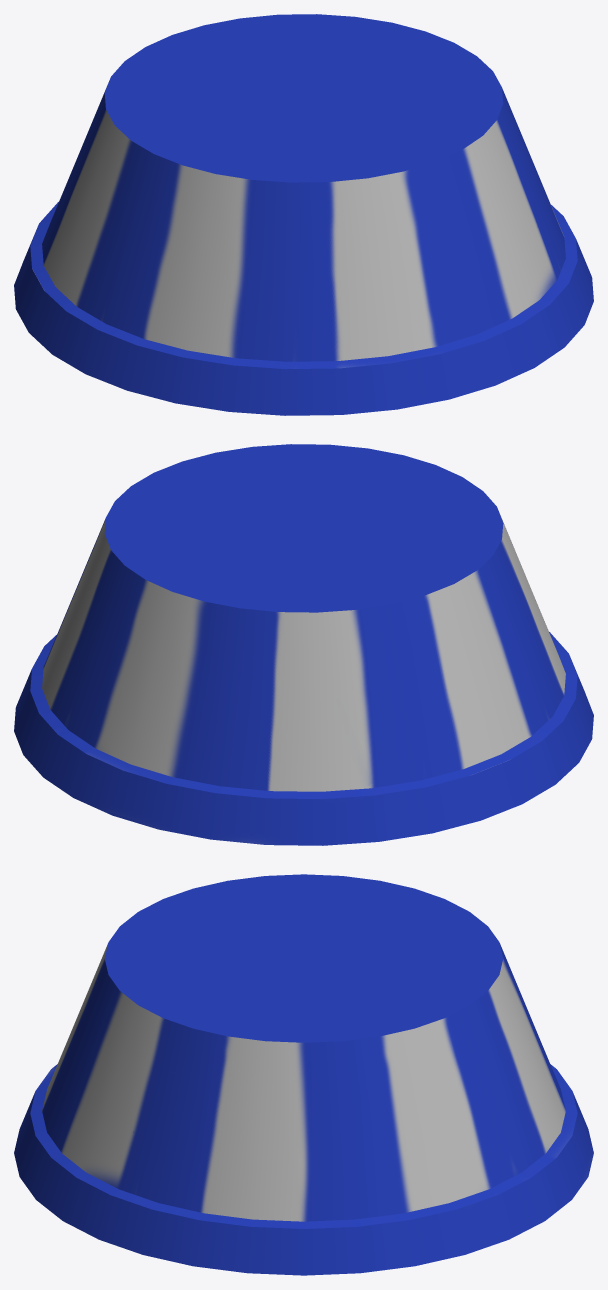
Rendered from plinth_01 1.fbx.
3 views of the same model, one above another, from view 1: azimuth 30°, elevation 25°; view 2: azimuth 150°, elevation 25°; view 3: azimuth 270°, elevation 25° (orthographic).
Parts seen in each view (by area): view 1: taso 1; view 2: taso 1; view 3: taso 1.
Part boxes in pixels (x1=…): taso 1: x1=14, y1=14, x2=593, y2=415; taso 1: x1=14, y1=444, x2=593, y2=845; taso 1: x1=14, y1=874, x2=593, y2=1275.
Size of the model in its own units: 135 by 50.06 by 135.
Materials: 1 (1 with a texture image).
